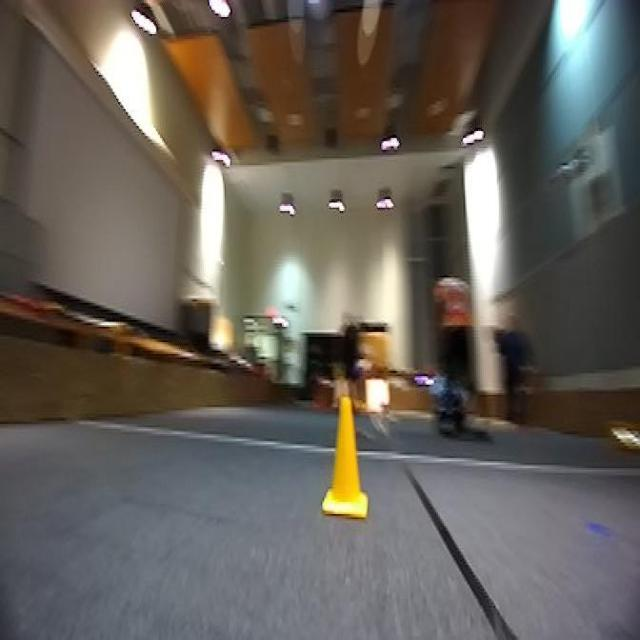frc_cone: (320, 390, 371, 522), (608, 421, 639, 456)
